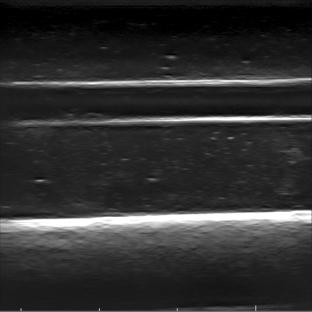vessel: (4, 76, 308, 126)
